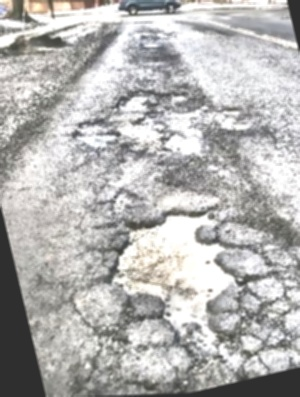pothole: (72, 175, 275, 385), (65, 109, 126, 158), (155, 123, 209, 167), (109, 78, 163, 121), (125, 103, 167, 136), (219, 101, 243, 120)
